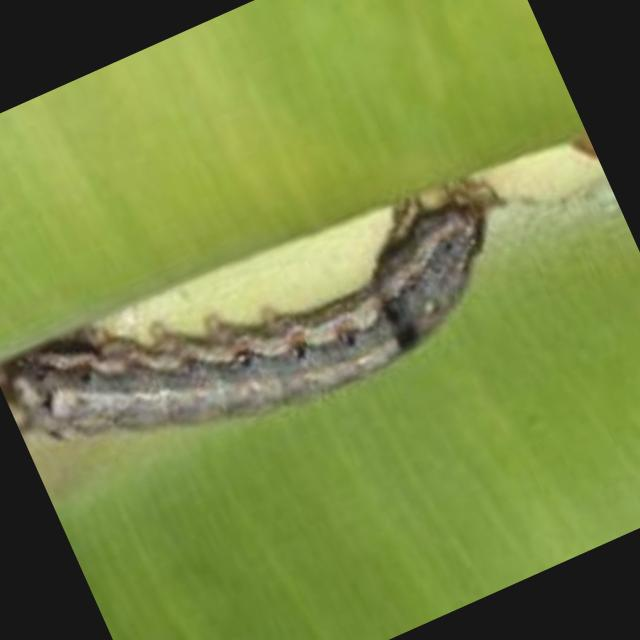Tobacco cutworm: (0, 47, 640, 591)
